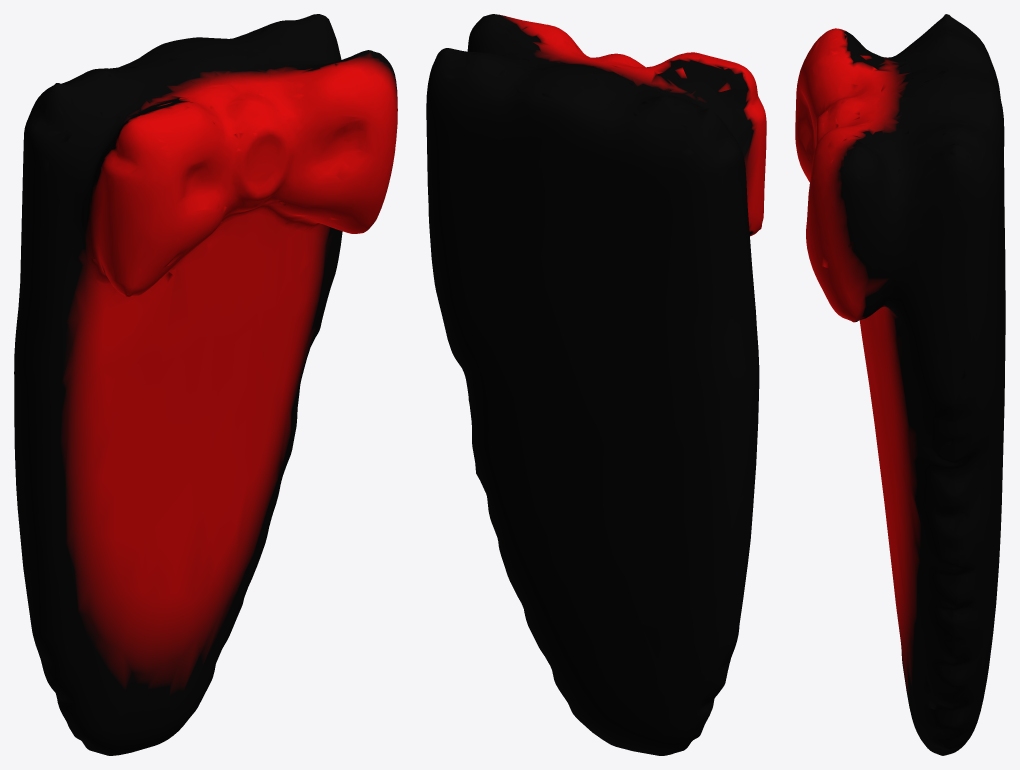
3 renders of one model, left to right at view 1: azimuth 30°, elevation 25°; view 2: azimuth 150°, elevation 25°; view 3: azimuth 270°, elevation 25°, orthographic. The views are drawn at different scales.
Parts seen in each view (by area): view 1: geometry_0; view 2: geometry_0; view 3: geometry_0.
Part boxes in pixels (bbox=[...]): geometry_0: bbox=[14, 14, 397, 755]; geometry_0: bbox=[426, 14, 766, 755]; geometry_0: bbox=[795, 14, 1005, 755].
Bounding box in the file's own units: 0.5065 × 1 × 0.2749.
